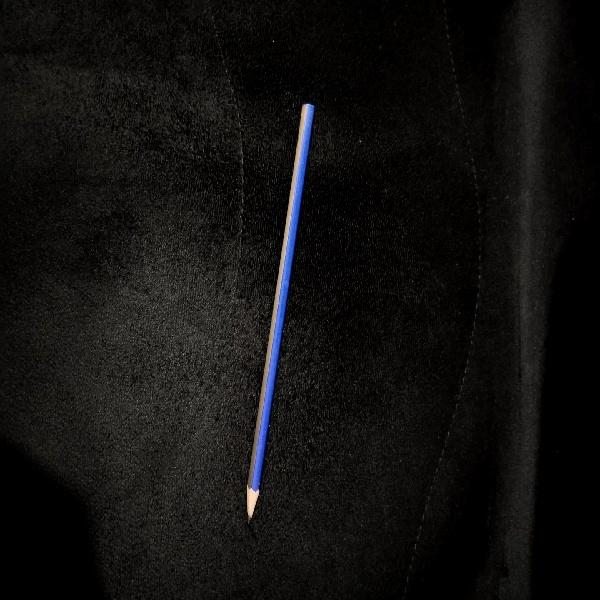pencil: (242, 101, 320, 526)
